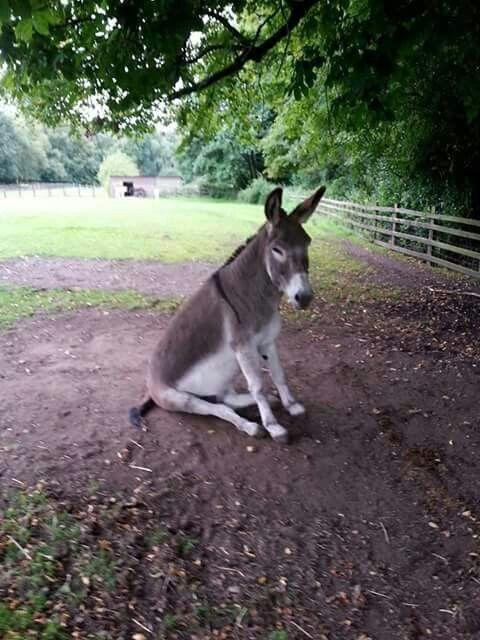donkey: (130, 187, 324, 441)
